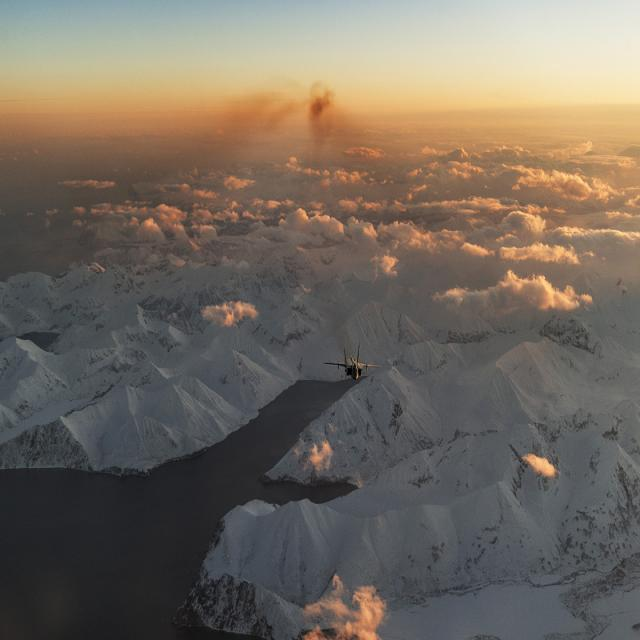MIL_Plane: (324, 340, 382, 380)
